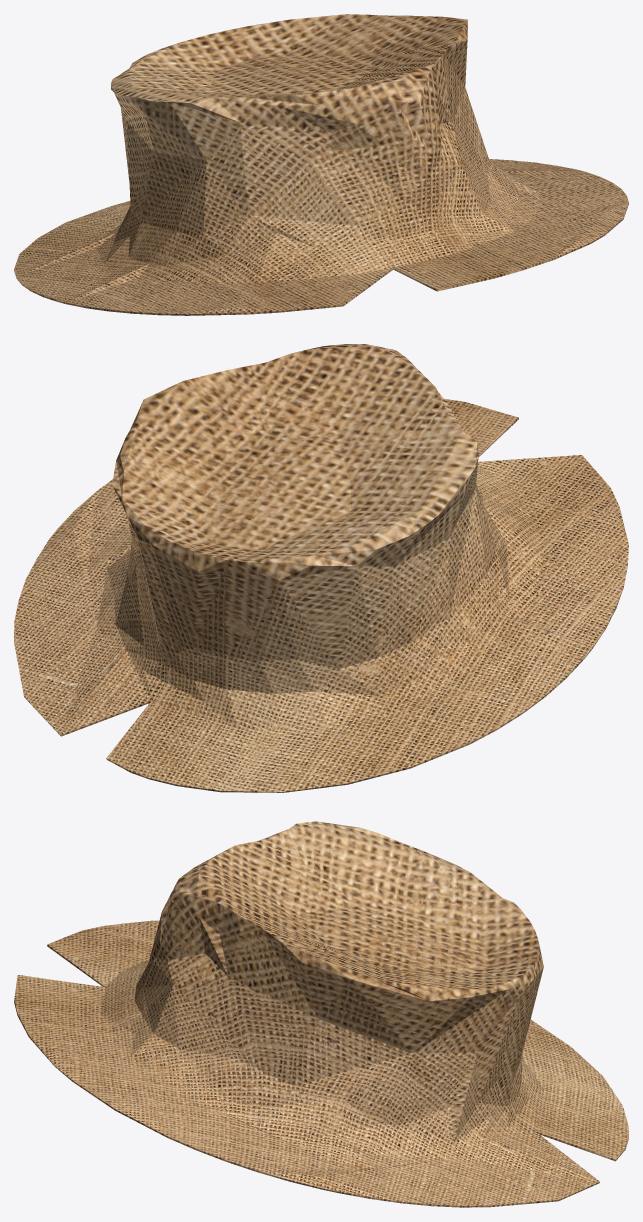
File: Hat.fbx
3 views of the same model, one above another, from view 1: azimuth 30°, elevation 25°; view 2: azimuth 150°, elevation 25°; view 3: azimuth 270°, elevation 25° (orthographic). The views are drawn at different scales.
Visible parts, largest first — view 1: Hat; view 2: Hat; view 3: Hat.
Part boxes in pixels (x1,y1,x2,y2): Hat: (14, 14, 628, 315); Hat: (14, 344, 628, 792); Hat: (14, 821, 628, 1207).
Size of the model in its own units: 136 by 67.11 by 142.
